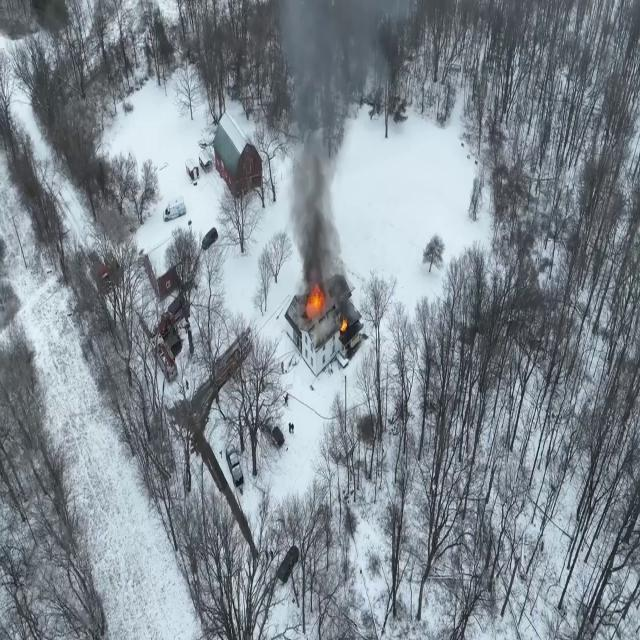Fire: (303, 279, 329, 325)
Smoke: (271, 1, 379, 278)
